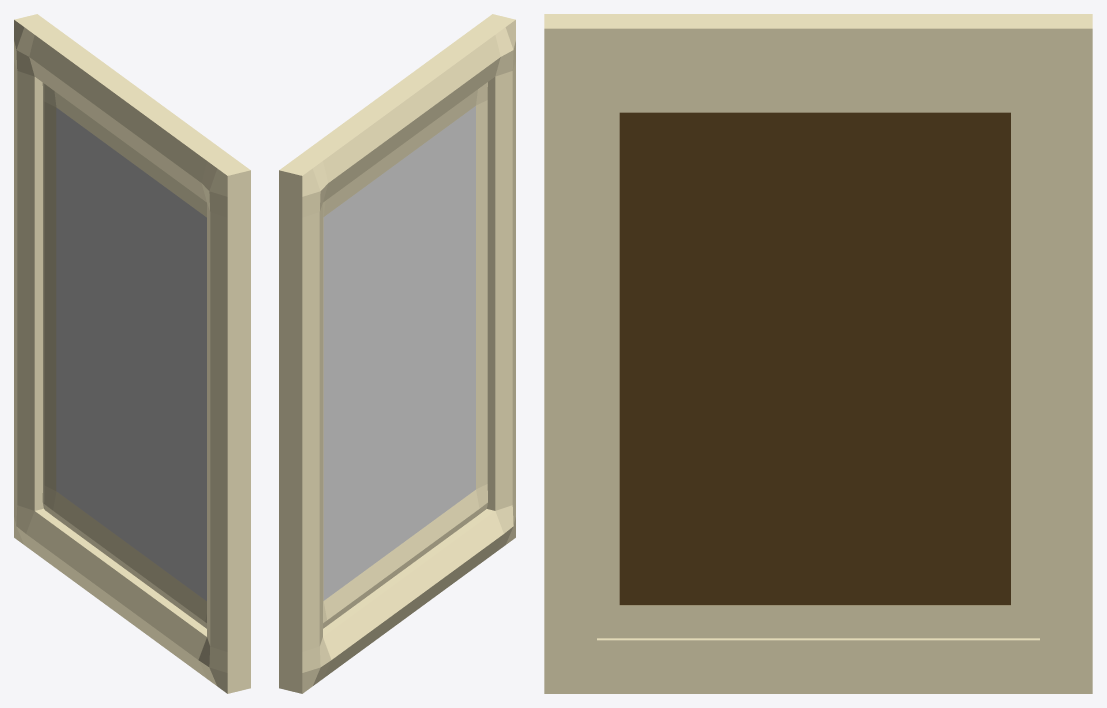
File: Modified_Painting_Frame.fbx
3 views of the same model, side by side, from view 1: azimuth 30°, elevation 25°; view 2: azimuth 150°, elevation 25°; view 3: azimuth 270°, elevation 25° (orthographic). The views are drawn at different scales.
Parts seen in each view (by area): view 1: Plane, Cube, Cube.003; view 2: Plane, Cube, Cube.003; view 3: Cube.001, Cube, Cube.003.
Part boxes in pixels (x1=…): Plane: x1=56, y1=107, x2=206, y2=600; Cube: x1=14, y1=14, x2=250, y2=693; Cube.003: x1=42, y1=83, x2=206, y2=628; Plane: x1=323, y1=106, x2=475, y2=600; Cube: x1=279, y1=14, x2=515, y2=693; Cube.003: x1=323, y1=82, x2=487, y2=628; Cube.001: x1=619, y1=112, x2=1010, y2=605; Cube: x1=544, y1=14, x2=1092, y2=693; Cube.003: x1=597, y1=82, x2=1039, y2=638.
Size of the model in its own units: 27.03 by 420 by 314.
